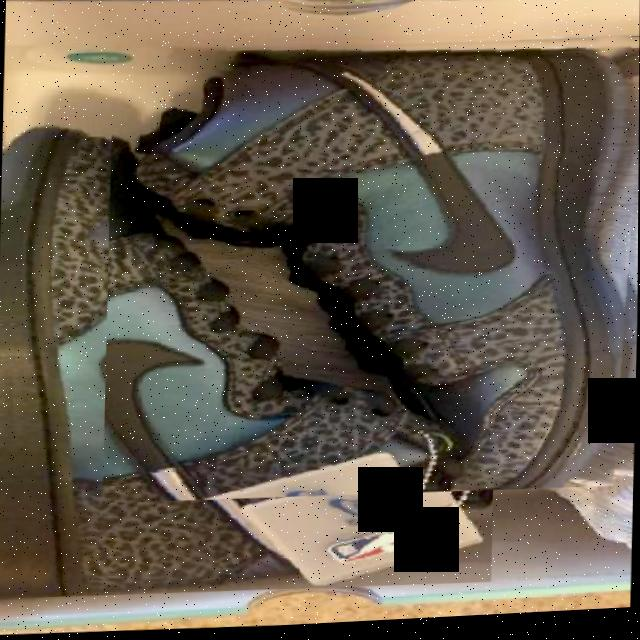shoe: (102, 23, 640, 514), (0, 99, 502, 608)
